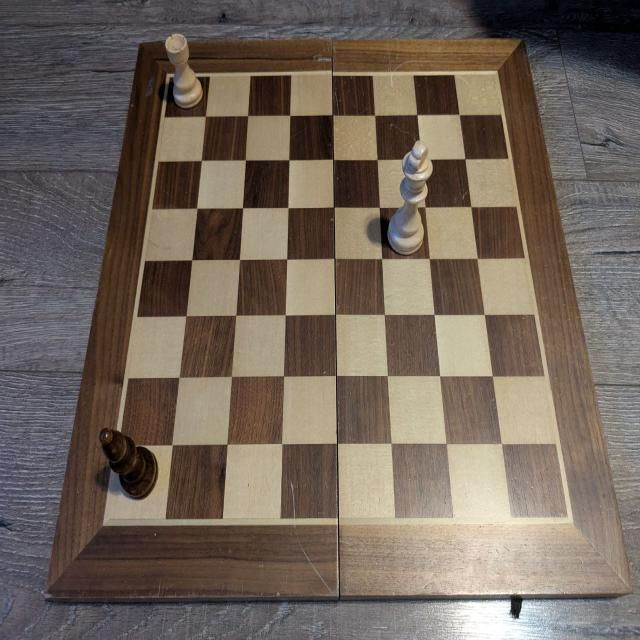black_bishop: (98, 424, 158, 501)
white_king: (387, 140, 434, 256)
white_rook: (165, 34, 205, 108)
